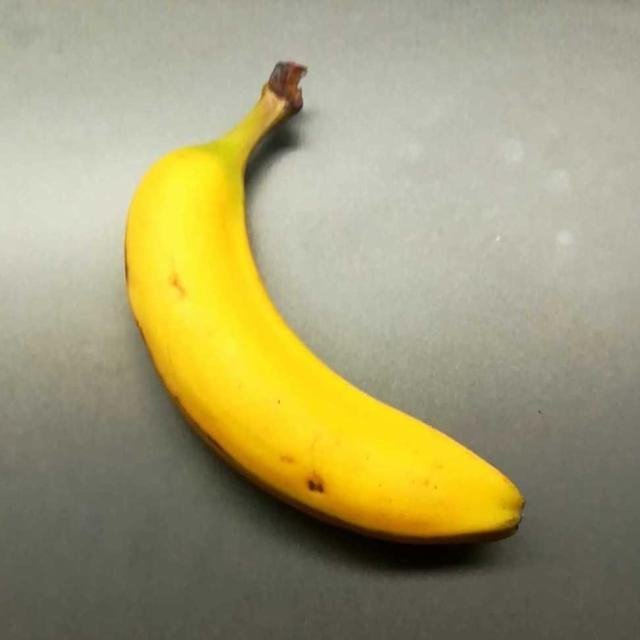banana: (131, 70, 508, 536)
